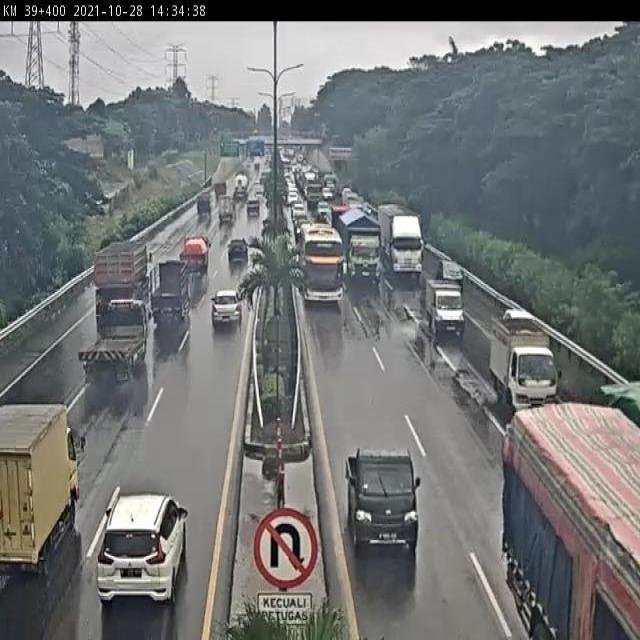big bus: (296, 224, 351, 307)
big truck: (380, 197, 433, 276), (104, 237, 156, 300), (342, 207, 384, 277), (233, 166, 249, 202), (305, 176, 323, 204)
car: (7, 395, 81, 568), (96, 489, 189, 608), (351, 440, 425, 564), (492, 315, 561, 408), (425, 276, 472, 339), (158, 255, 192, 324), (213, 276, 246, 333), (179, 234, 212, 274), (502, 304, 534, 329), (228, 233, 248, 267), (436, 255, 465, 277), (217, 193, 236, 226), (245, 194, 263, 222), (195, 192, 212, 215), (290, 202, 310, 218), (320, 200, 330, 220), (323, 187, 334, 204), (214, 184, 229, 196), (346, 189, 357, 203), (290, 189, 296, 203), (327, 176, 333, 185)
small truck: (101, 297, 149, 376)
